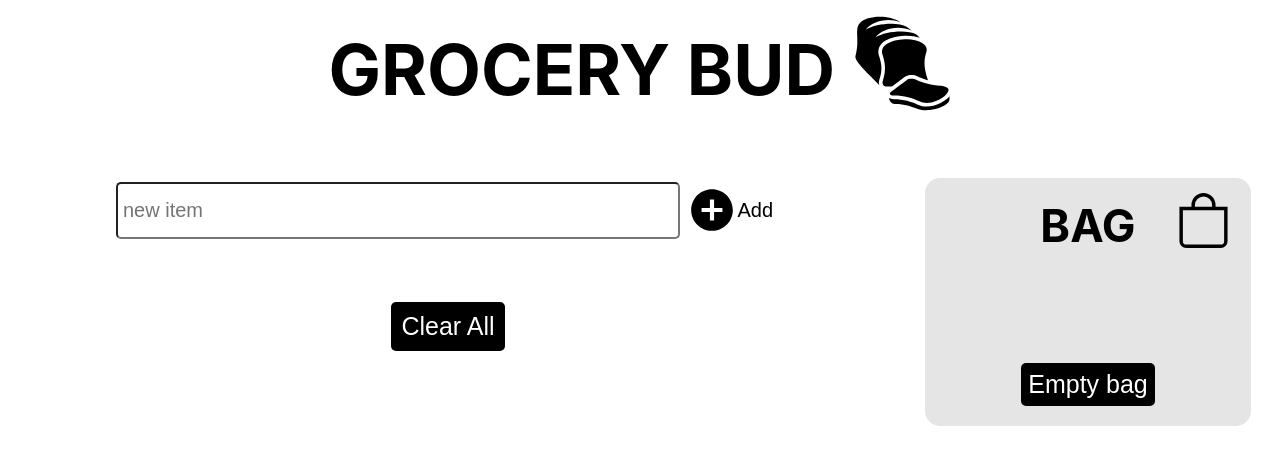
Test: when list has only one item: › on edited item if user edited the item value and clicks Cancel button  the item return to previous value and shows a div not an input
The width and height of the screenshot is (1268, 474).
Type "1 package of toilet paper" into the field with placeholder "new item".
click(398, 210); type("1 package of toilet paper")  # box x1=116 y1=182 x2=680 y2=238
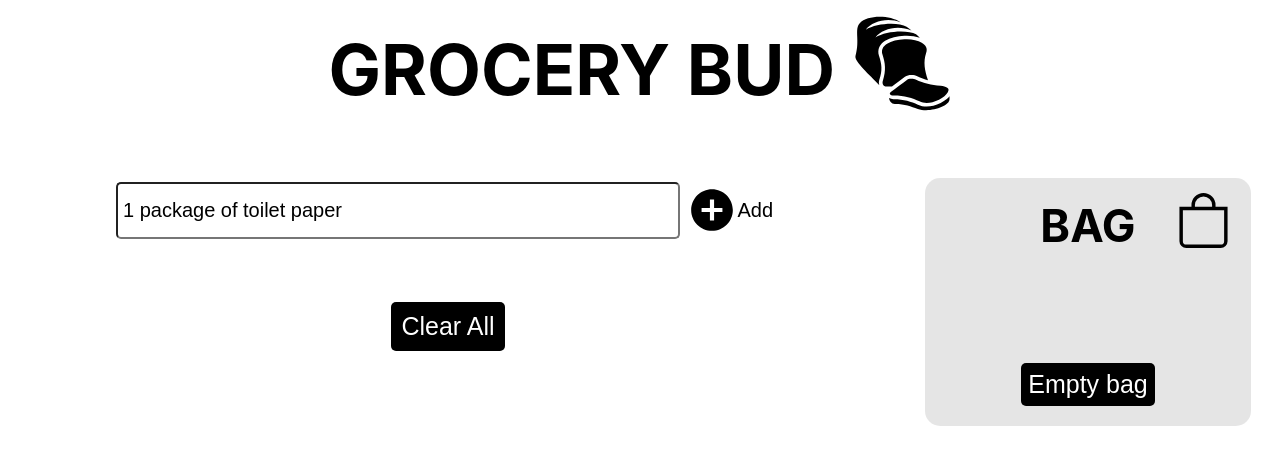
Click the button "Add".
click(730, 210)  # box x1=680 y1=178 x2=780 y2=242
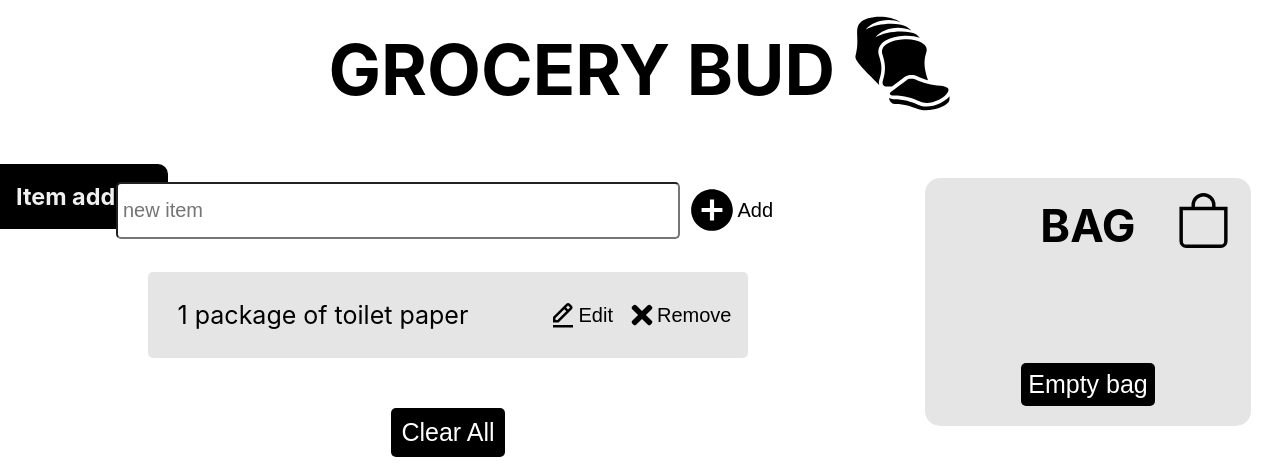
Click the button "Edit".
click(581, 315)  # box x1=542 y1=293 x2=620 y2=337
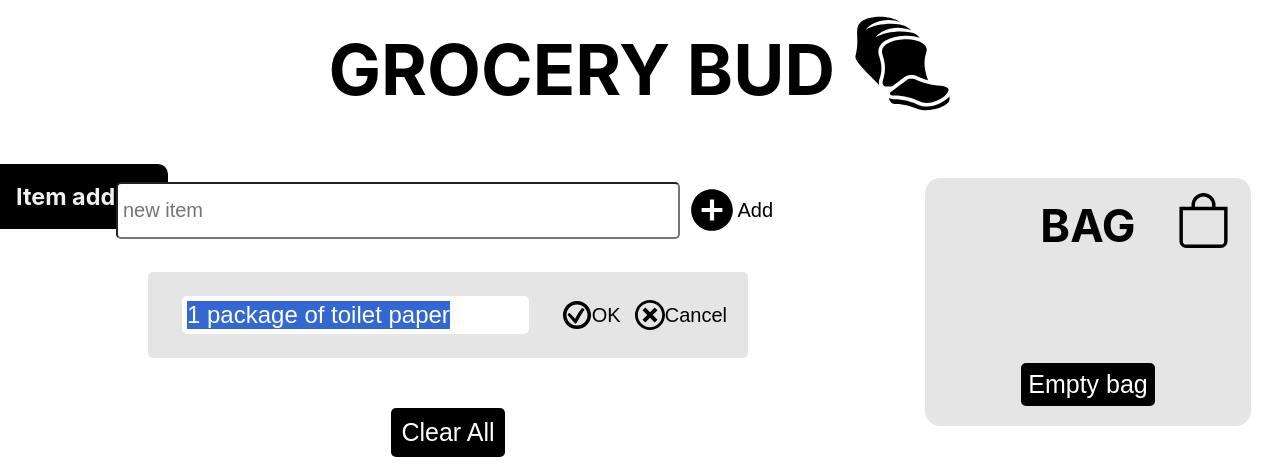
Type "a new lamborghini" into the 2nd field.
click(355, 315); type("a new lamborghini")  # box x1=182 y1=296 x2=529 y2=334
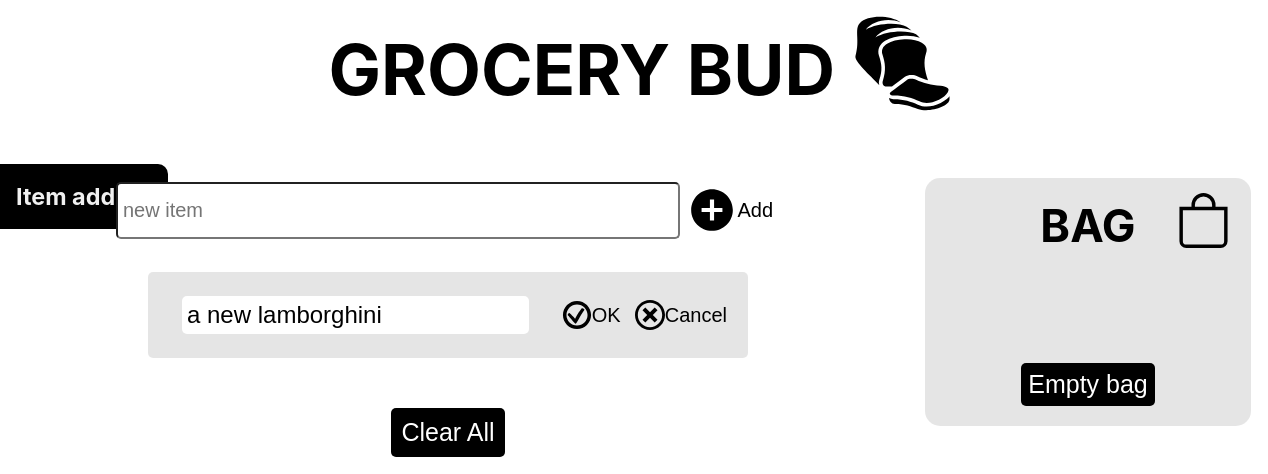
Click the button "Cancel".
click(681, 315)  # box x1=628 y1=293 x2=734 y2=337
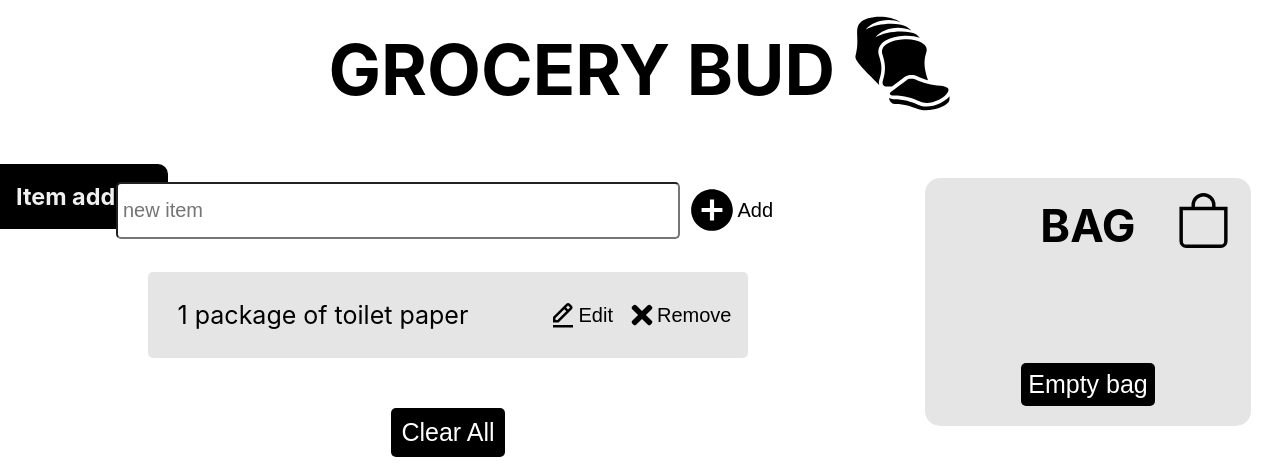
Check: the number of fields is 1, box x1=116 y1=182 x2=680 y2=238
Check: the text "1 package of toilet paper" is shown, box x1=178 y1=300 x2=468 y2=330
